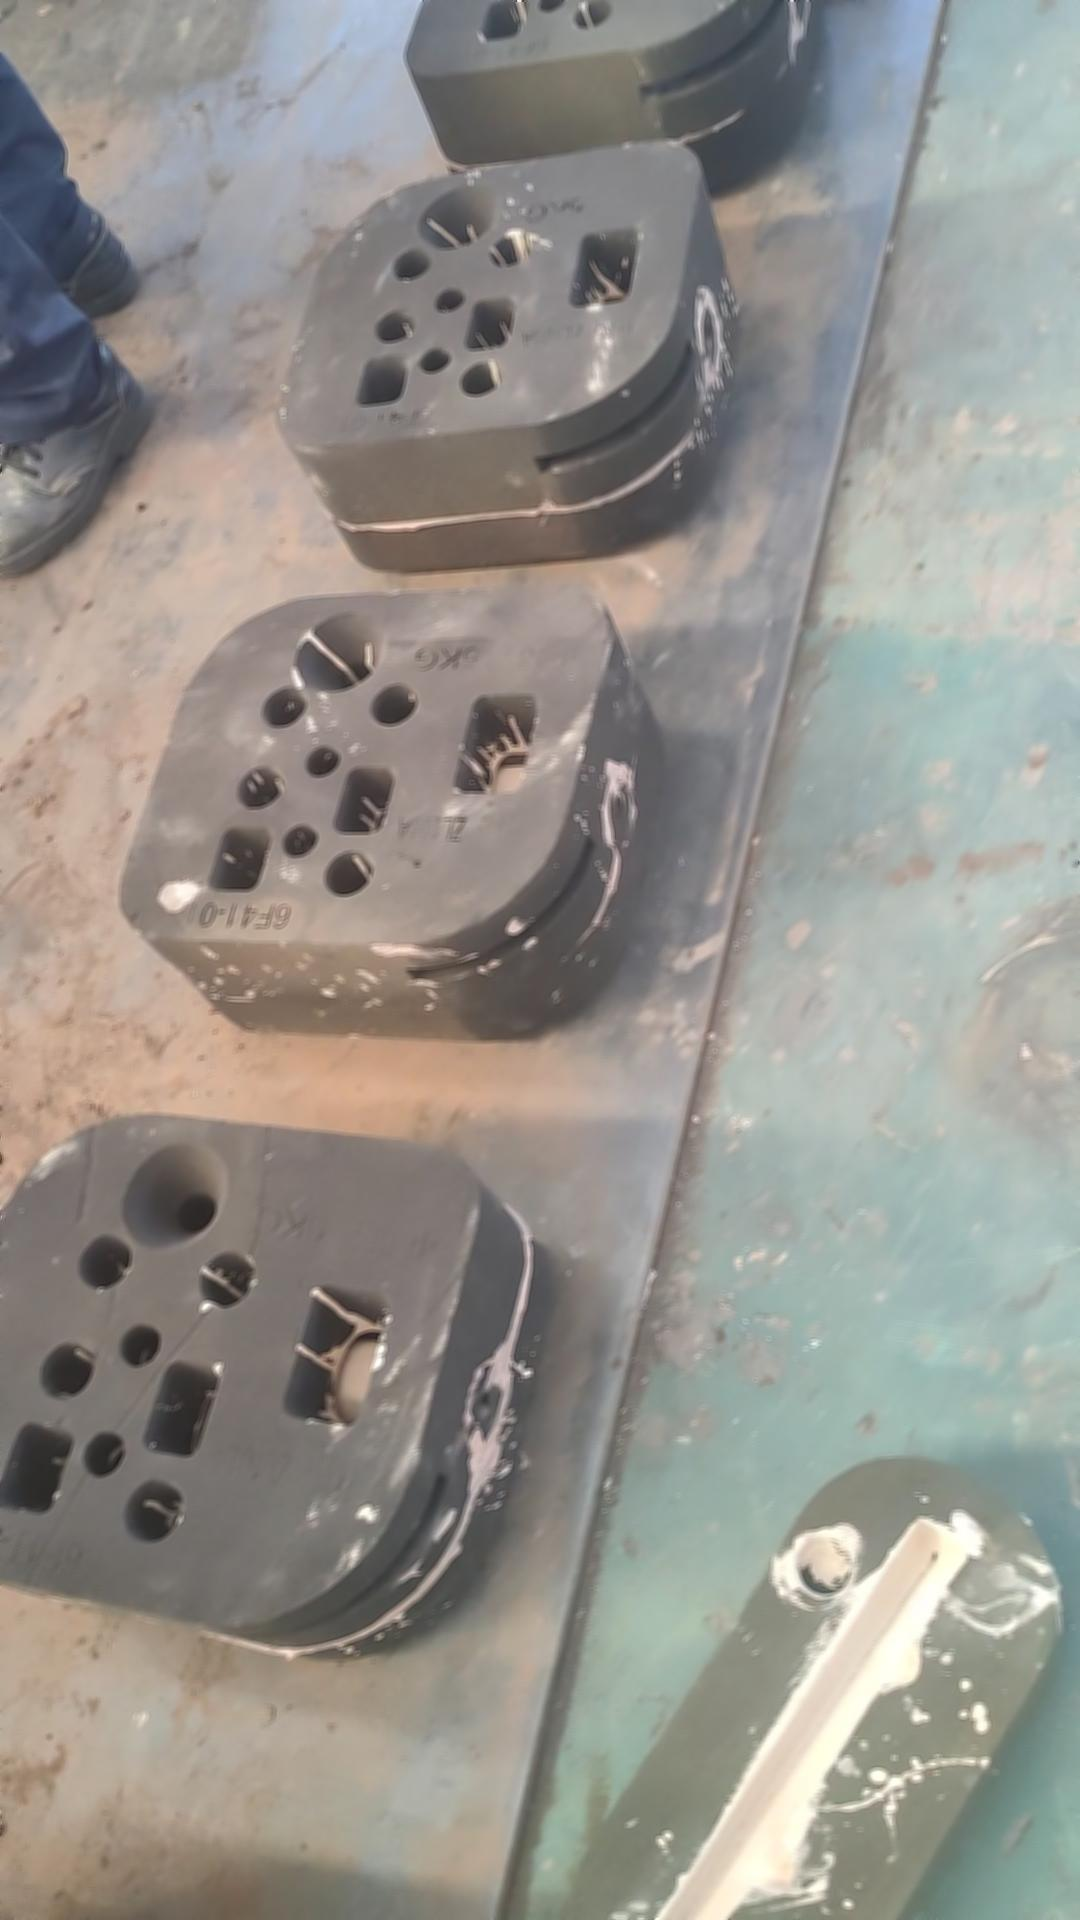pouring hole: (120, 1142, 228, 1249), (294, 611, 384, 694), (415, 185, 498, 251)
